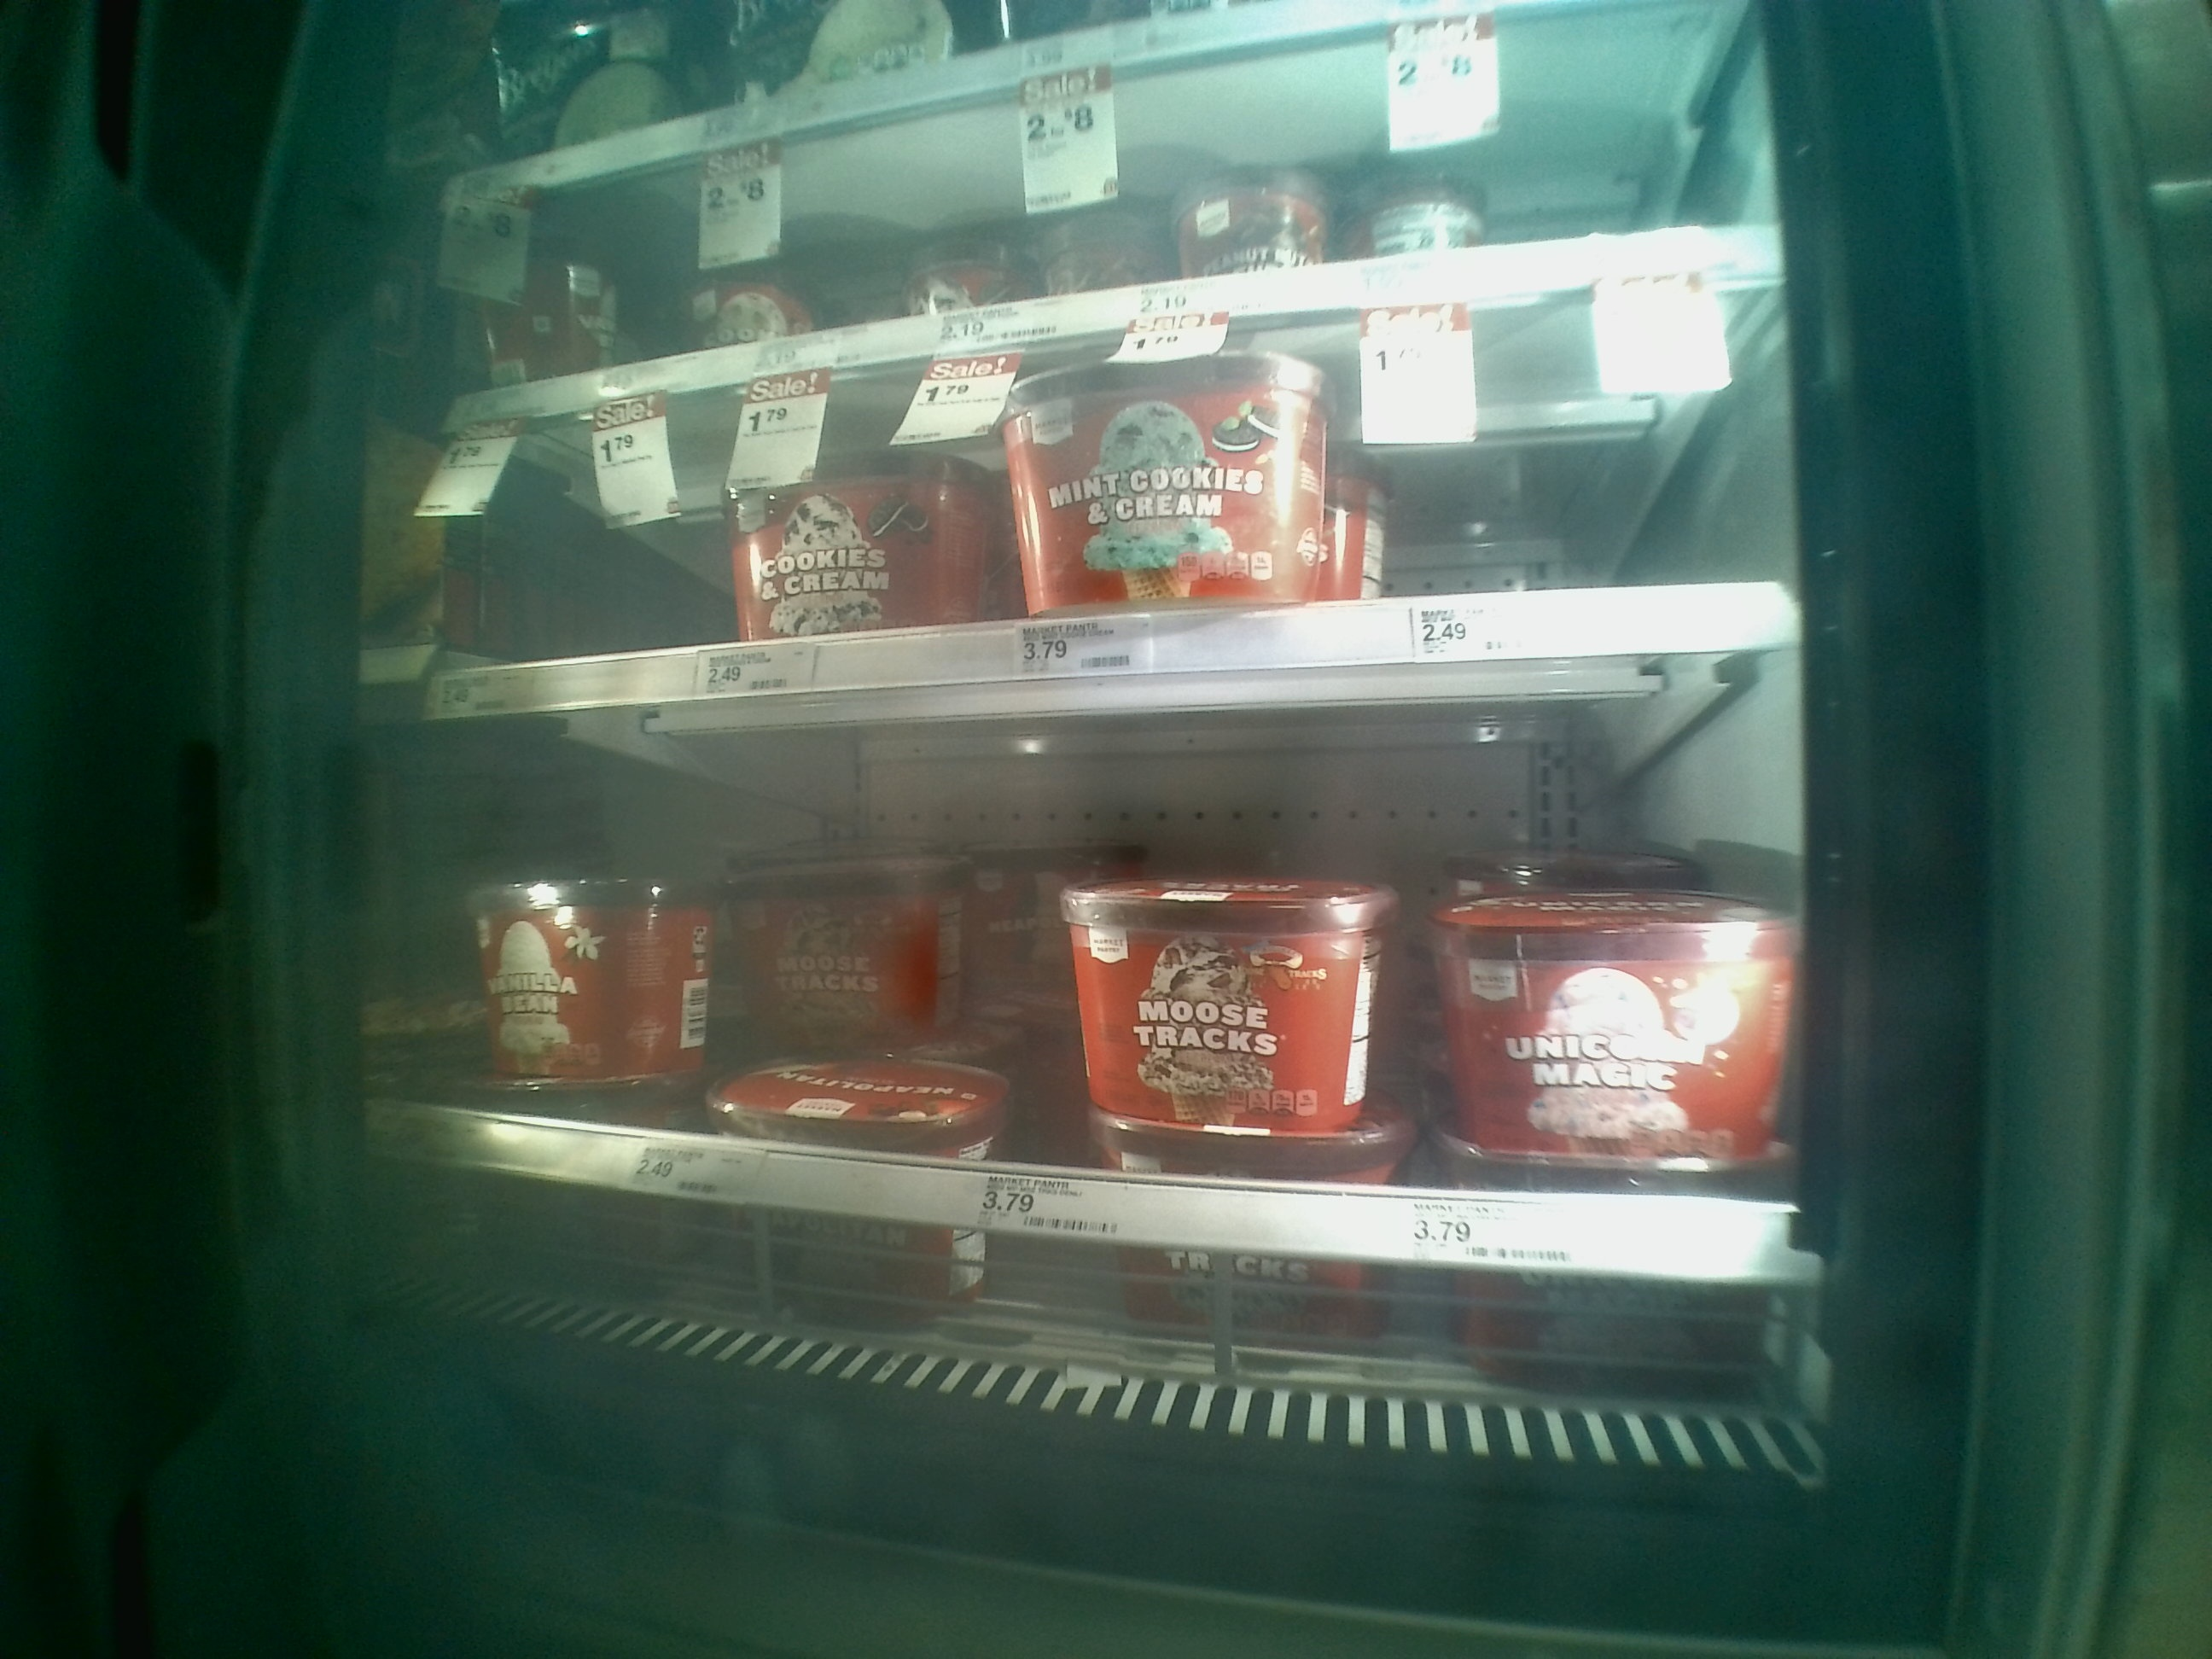ice-cream-shelf: (416, 739, 1794, 1399)
